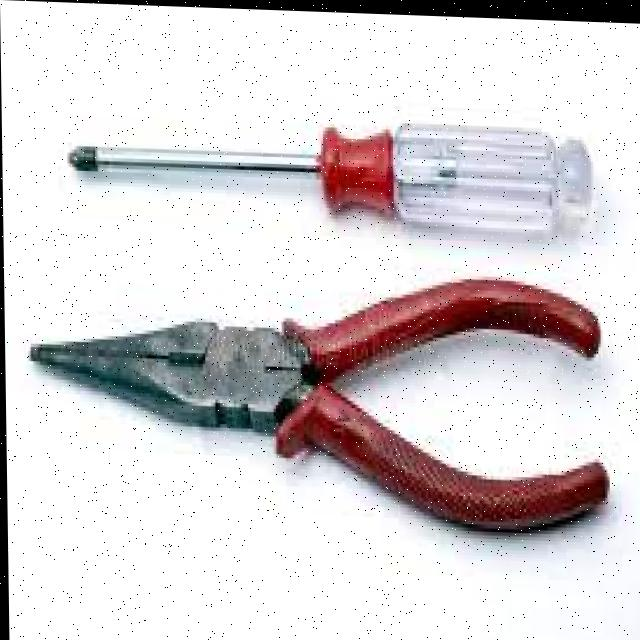Screwdriver: (68, 121, 592, 229)
